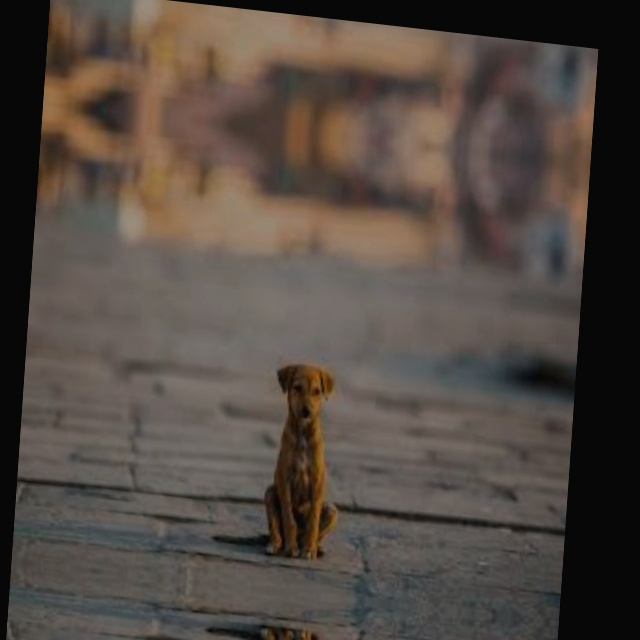dog: (225, 296, 378, 591), (216, 595, 357, 640)
